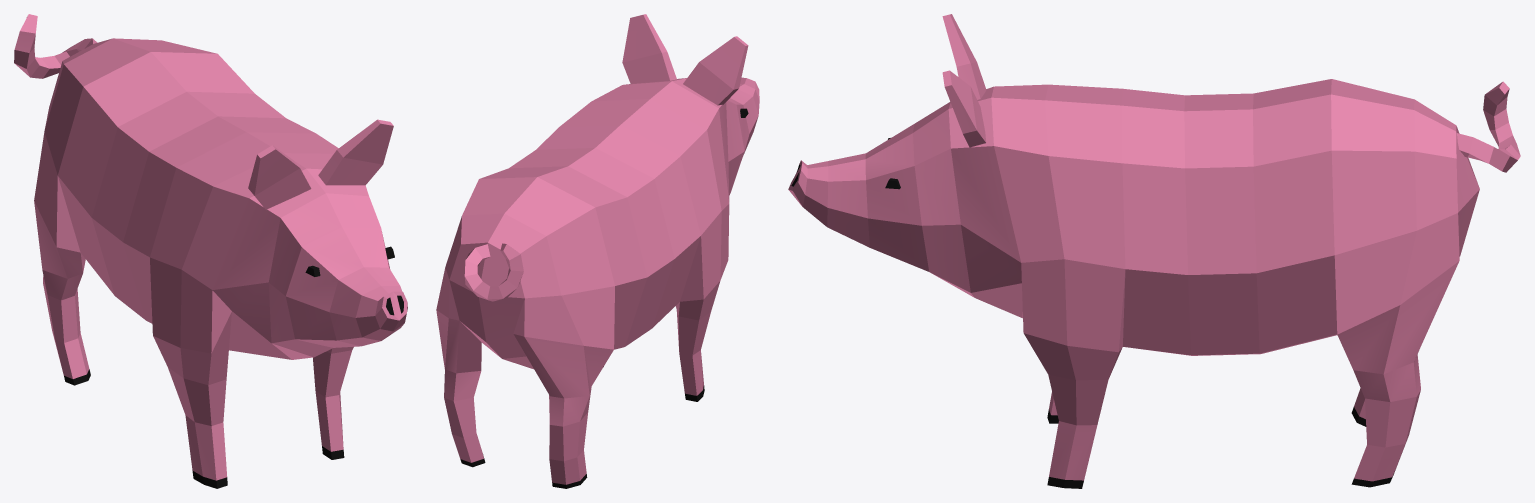
Rendered from pig.fbx.
3 views of the same model, side by side, from view 1: azimuth 30°, elevation 25°; view 2: azimuth 150°, elevation 25°; view 3: azimuth 270°, elevation 25° (orthographic). The views are drawn at different scales.
Parts seen in each view (by area): view 1: pig; view 2: pig; view 3: pig.
Boxes of the visible parts, x1,y1,x2,y2 form: pig: (14, 14, 407, 488); pig: (436, 14, 759, 488); pig: (788, 14, 1520, 488).
Size of the model in its own units: 0.0973 by 0.1829 by 0.2969.
